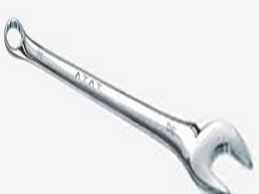wrench: (1, 13, 259, 194)
